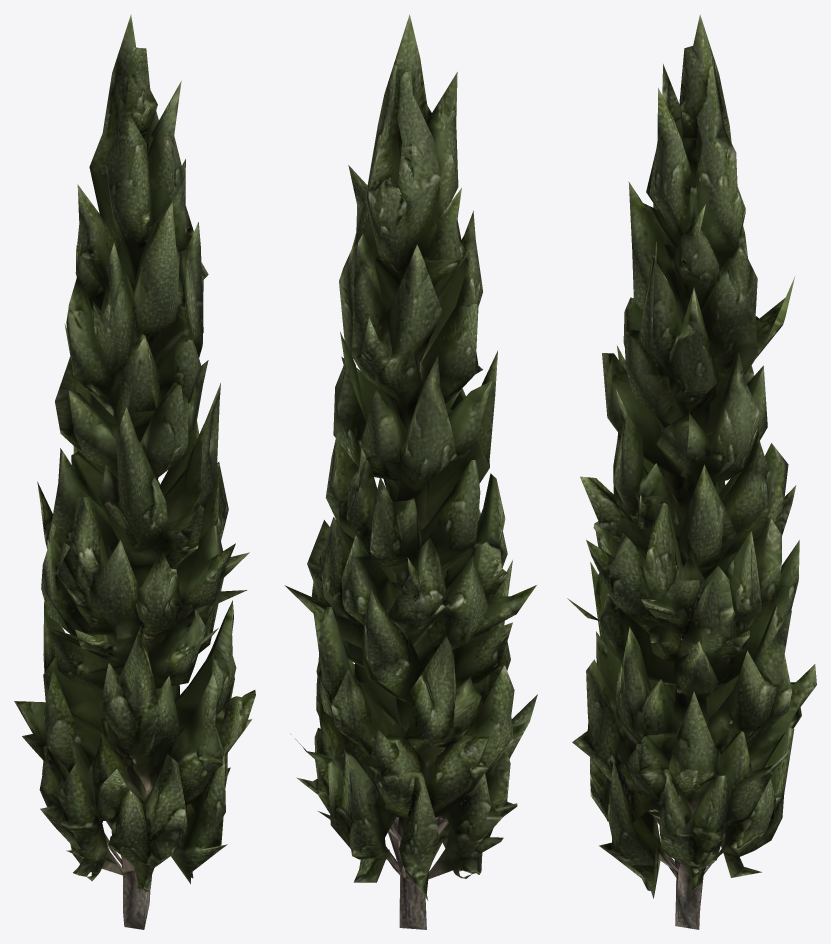
The model's file is cypress.glb.
3 views of the same model, side by side, from view 1: azimuth 30°, elevation 25°; view 2: azimuth 150°, elevation 25°; view 3: azimuth 270°, elevation 25° (orthographic).
Parts seen in each view (by area): view 1: tripo_node_9e0e1a26-168c-416f-982d-58eeb669fdbe; view 2: tripo_node_9e0e1a26-168c-416f-982d-58eeb669fdbe; view 3: tripo_node_9e0e1a26-168c-416f-982d-58eeb669fdbe.
Part boxes in pixels (x1=…): tripo_node_9e0e1a26-168c-416f-982d-58eeb669fdbe: x1=14, y1=14, x2=255, y2=929; tripo_node_9e0e1a26-168c-416f-982d-58eeb669fdbe: x1=285, y1=14, x2=537, y2=929; tripo_node_9e0e1a26-168c-416f-982d-58eeb669fdbe: x1=567, y1=14, x2=816, y2=929.
Size of the model in its own units: 0.2279 by 0.9988 by 0.2492.
Materials: 1 (1 with a texture image).
